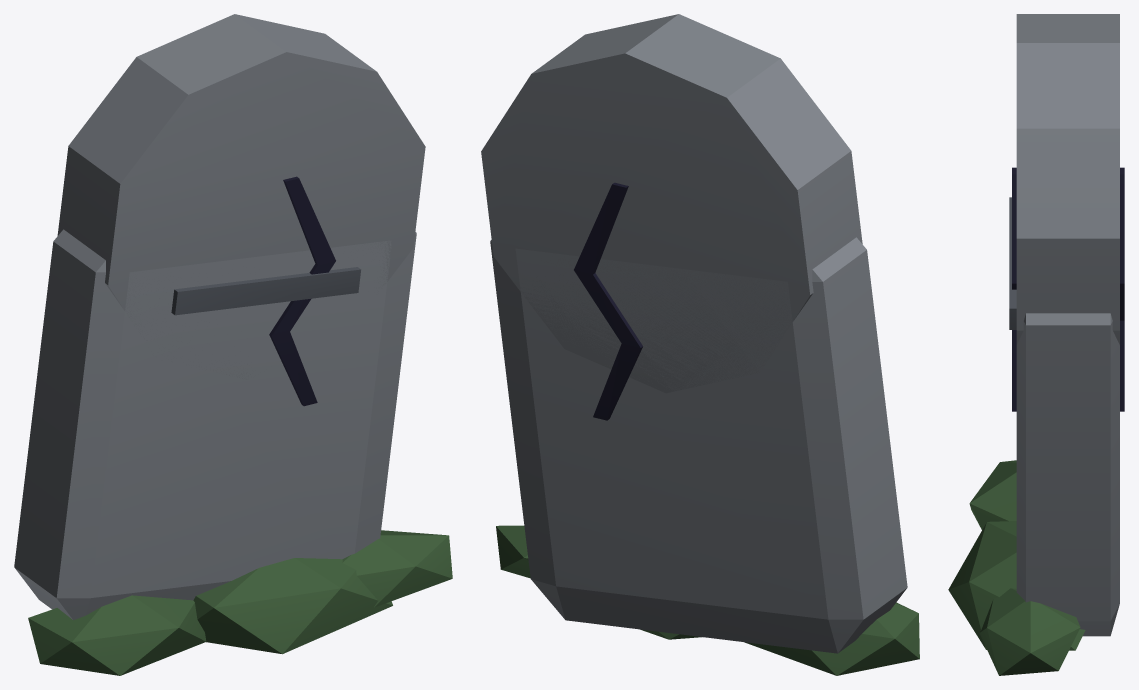
The model's file is prop_gravestone.glb.
3 renders of one model, left to right at view 1: azimuth 30°, elevation 25°; view 2: azimuth 150°, elevation 25°; view 3: azimuth 270°, elevation 25°, orthographic. The views are drawn at different scales.
Visible parts, largest first — view 1: prop_gravestone; view 2: prop_gravestone; view 3: prop_gravestone.
Boxes of the visible parts, x1,y1,x2,y2 form: prop_gravestone: (14, 14, 452, 675); prop_gravestone: (481, 14, 919, 675); prop_gravestone: (948, 14, 1124, 675).
Bounding box in the file's own units: 0.8 × 1.1 × 0.3.
